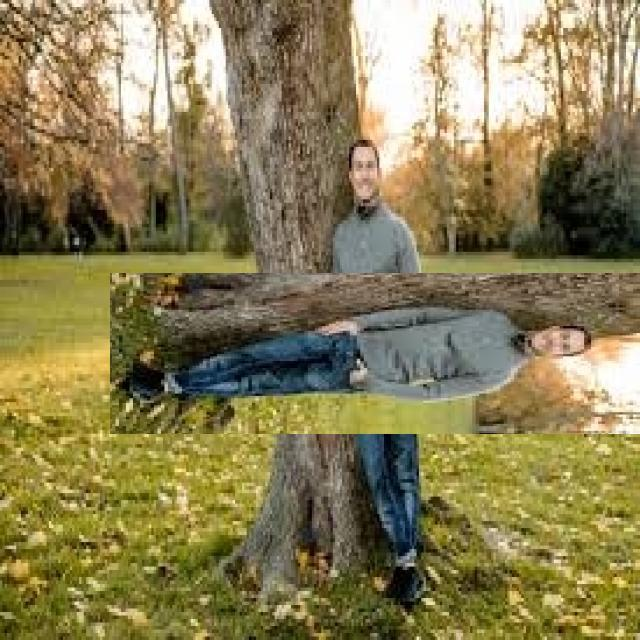NotFall: (51, 251, 640, 453)
